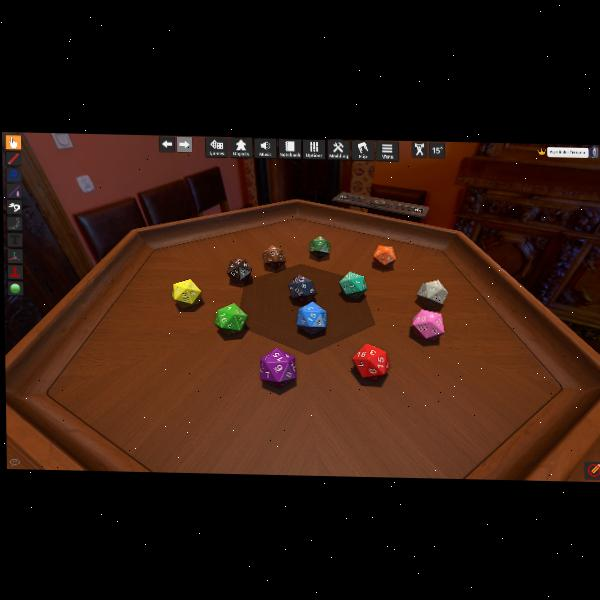d20: (259, 346, 296, 386), (352, 342, 389, 380), (216, 302, 247, 334), (412, 309, 443, 340), (297, 302, 326, 334), (416, 279, 447, 308), (173, 278, 202, 306), (338, 271, 366, 299), (288, 274, 314, 301), (226, 258, 252, 282), (263, 244, 285, 268), (374, 245, 396, 268), (308, 236, 329, 258)
